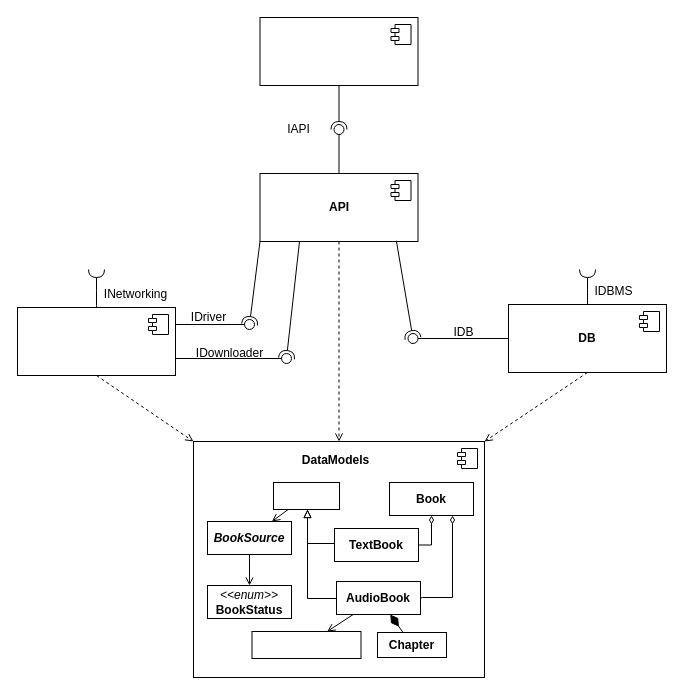
Some shapes in this 684 by 695 pixel diagram are drawn without their labels. Here are the shapes that lost their labels. From the top down, the centre of each, then its label:
At pixel 338 51: "Client".
At pixel 96 341: "Drivers".
At pixel 306 496: "RawBook".
At pixel 306 644: "ListeningProgress".
